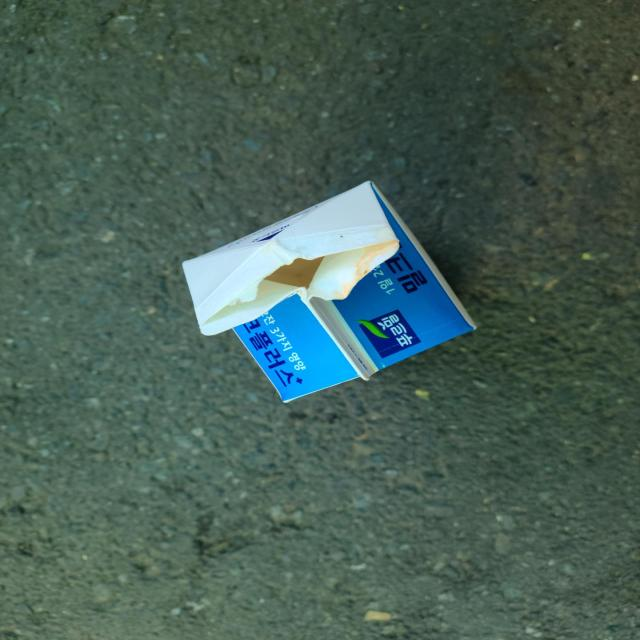paperpack: (182, 181, 476, 402)
